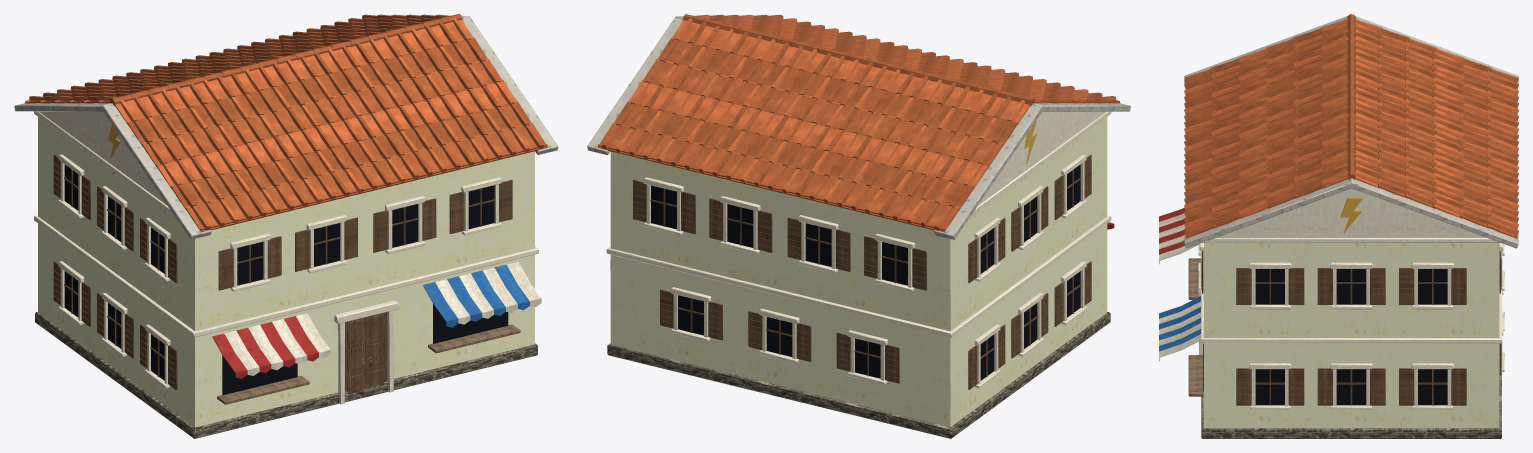
The model's file is home_insula_t1.glb.
3 views of the same model, side by side, from view 1: azimuth 30°, elevation 25°; view 2: azimuth 150°, elevation 25°; view 3: azimuth 270°, elevation 25° (orthographic). The views are drawn at different scales.
Visible parts, largest first — view 1: plaster, terracotta1, terracotta0, terracotta2, cream, wood_dark, dark, stone_dark, cloth_cream, marble, cloth_azure, cloth_red (+1 smaller); view 2: plaster, terracotta1, terracotta0, terracotta2, cream, wood_dark, dark, stone_dark, marble; view 3: plaster, terracotta1, terracotta0, terracotta2, cream, wood_dark, dark, marble, stone_dark, cloth_cream, wood, cloth_azure (+2 smaller).
Boxes of the visible parts, box(x1,y1,x2,y2) form: plaster: box(38, 117, 534, 427); terracotta1: box(25, 14, 547, 230); terracotta0: box(25, 14, 547, 231); terracotta2: box(40, 14, 532, 223); cream: box(34, 111, 538, 404); wood_dark: box(53, 154, 512, 402); dark: box(64, 164, 508, 395); stone_dark: box(35, 312, 537, 438); cloth_cream: box(224, 262, 541, 375); marble: box(14, 16, 558, 239); cloth_azure: box(423, 264, 529, 327); cloth_red: box(212, 316, 318, 378); plaster: box(610, 117, 1107, 427); terracotta1: box(598, 14, 1119, 230); terracotta0: box(597, 14, 1118, 231); terracotta2: box(612, 14, 1105, 223); cream: box(606, 111, 1111, 388); wood_dark: box(633, 154, 1091, 389); dark: box(651, 164, 1080, 380); stone_dark: box(607, 312, 1110, 438); marble: box(587, 16, 1130, 239); plaster: box(1203, 243, 1499, 428); terracotta1: box(1184, 14, 1518, 238); terracotta0: box(1184, 25, 1518, 238); terracotta2: box(1184, 19, 1518, 229); cream: box(1198, 188, 1504, 409); wood_dark: box(1201, 251, 1501, 405); dark: box(1203, 269, 1447, 405); marble: box(1184, 16, 1518, 248); stone_dark: box(1201, 372, 1501, 438); cloth_cream: box(1159, 213, 1200, 361); wood: box(1188, 258, 1203, 396); cloth_azure: box(1159, 296, 1200, 351).
Size of the model in its own units: 10.8 by 7.96 by 9.74.
Materials: 15 (13 with a texture image).
